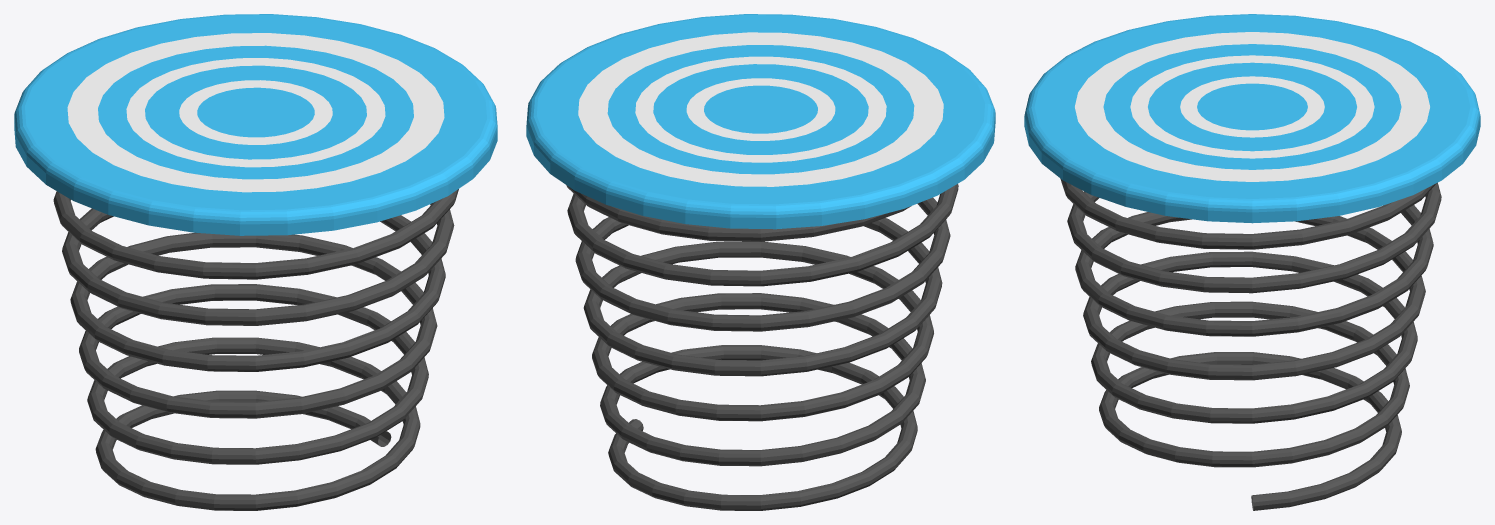
The model's file is Trampoline.fbx.
3 renders of one model, left to right at view 1: azimuth 30°, elevation 25°; view 2: azimuth 150°, elevation 25°; view 3: azimuth 270°, elevation 25°, orthographic. The views are drawn at different scales.
Parts seen in each view (by area): view 1: Spiral.001; view 2: Spiral.001; view 3: Spiral.001.
Boxes of the visible parts, bbox=[...] form: Spiral.001: bbox=[14, 14, 497, 510]; Spiral.001: bbox=[526, 14, 995, 510]; Spiral.001: bbox=[1024, 14, 1480, 510].
Bounding box in the file's own units: 177 × 147 × 177.
Materials: 1 (1 with a texture image).
